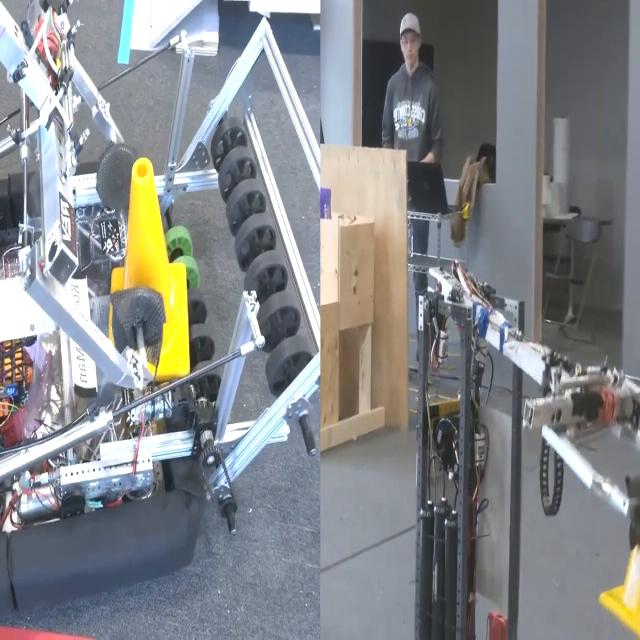frc_cone: (109, 146, 187, 384), (599, 479, 640, 639)
frc_cube: (318, 179, 338, 221)
